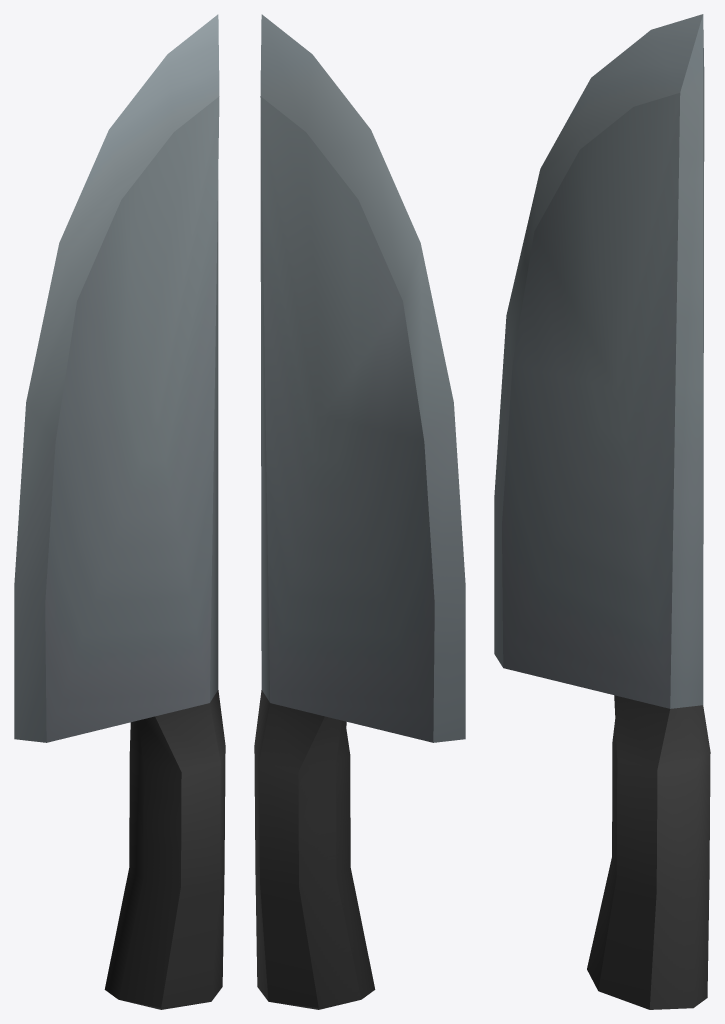
File: knife.glb
3 renders of one model, left to right at view 1: azimuth 30°, elevation 25°; view 2: azimuth 150°, elevation 25°; view 3: azimuth 330°, elevation 25°, orthographic. The views are drawn at different scales.
Visible parts, largest first — view 1: knife; view 2: knife; view 3: knife.
Part boxes in pixels (x1,y1,x2,y2): knife: [14, 14, 225, 1009]; knife: [254, 14, 465, 1009]; knife: [494, 14, 710, 1009].
Size of the model in its own units: 0.25 by 1.15 by 0.1.
1 material, 1 textured.
